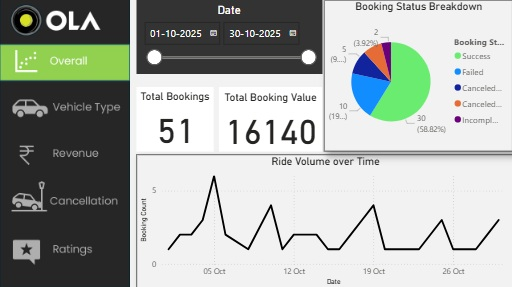

The dashboard page shown, as its layout file describes it:
{"tool":"powerbi","page":{"name":"OVERALL","canvas":[816,1056],"ordinal":0},"visuals":[{"type":"actionButton","box":[0,441.4,207.1,57.6],"z":0},{"type":"actionButton","box":[0,522.2,207.1,40.4],"z":1000},{"type":"actionButton","box":[0,670.7,207.1,47.5],"z":2000},{"type":"actionButton","box":[0,520.2,207.1,40.4],"z":3000},{"type":"actionButton","box":[1,609.1,207.1,47.5],"z":4000},{"type":"actionButton","box":[6.1,584.8,198,54.5],"z":5000},{"type":"lineChart","title":"Ride Volume over Time","fields":{"Y":["CountNonNull(newBooking.Booking ID)"],"Category":["newBooking.Date"]},"box":[216.1,541.9,600,214],"z":6000},{"type":"pieChart","title":"Booking Status Breakdown","fields":{"Category":["newBooking.Booking Status"],"Y":["CountNonNull(newBooking.Booking Status)"]},"box":[516.1,295.7,300,240.9],"z":7000},{"type":"slicer","title":"Date","fields":{"Values":["newBooking.Date"]},"box":[216.1,295.7,294.6,117.2],"z":8000},{"type":"card","title":"Total Bookings","fields":{"Values":["Count(newBooking.Booking ID)"]},"box":[216,433.3,122.7,102.7],"z":9000},{"type":"card","title":"Total Booking Value ","fields":{"Values":["Sum(newBooking.Booking Value)"]},"box":[348,433.3,164,102.7],"z":10000},{"type":"actionButton","box":[0,0,100,40],"z":11000}]}

Visuals, with their boxes on the page's 816x1056 design canvas (x1, y1, x2, y2). These are canvas units, not pixel positions in the 512x287 screenshot, which may show the page scaled, cropped or inside an application window:
actionButton: <region>0, 441, 207, 499</region>
actionButton: <region>0, 522, 207, 563</region>
actionButton: <region>0, 671, 207, 718</region>
actionButton: <region>0, 520, 207, 561</region>
actionButton: <region>1, 609, 208, 657</region>
actionButton: <region>6, 585, 204, 639</region>
"Ride Volume over Time" lineChart: <region>216, 542, 816, 756</region>
"Booking Status Breakdown" pieChart: <region>516, 296, 816, 537</region>
"Date" slicer: <region>216, 296, 511, 413</region>
"Total Bookings" card: <region>216, 433, 339, 536</region>
"Total Booking Value " card: <region>348, 433, 512, 536</region>
actionButton: <region>0, 0, 100, 40</region>
